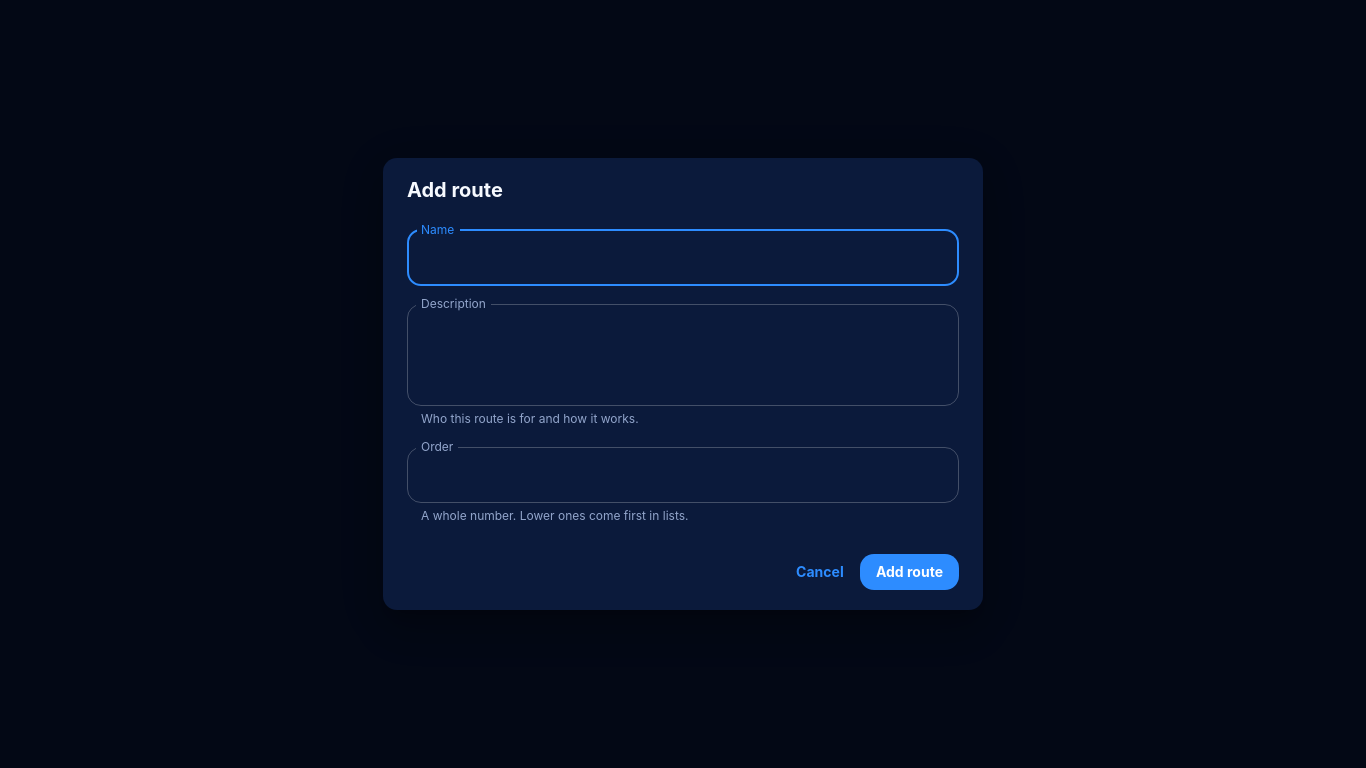
Scenario: RouteForm › needs a name, in plain words, and sends nothing without one
The width and height of the screenshot is (1366, 768).
Click the button "Add route" at (909, 572), box [860,554,959,590]
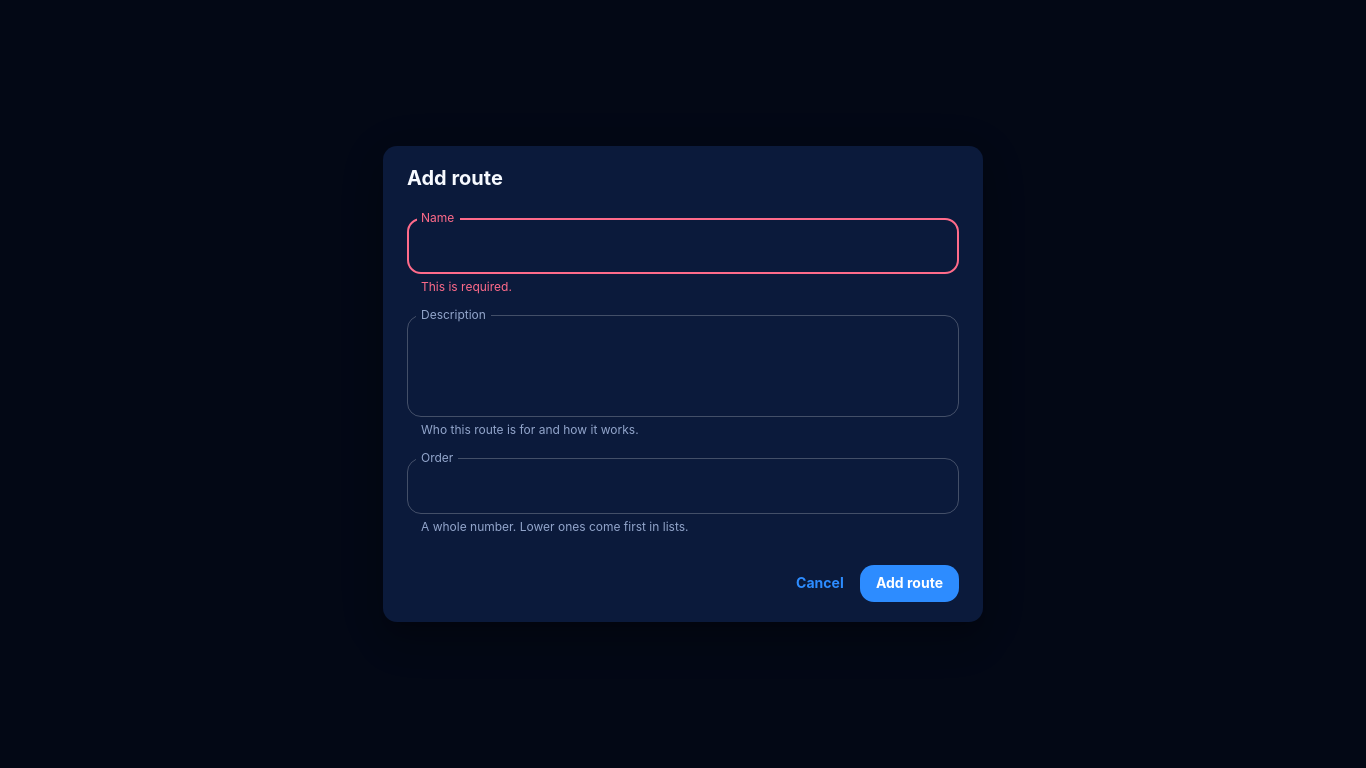
Check: the text "This is required." is shown, box [421,279,512,294]
